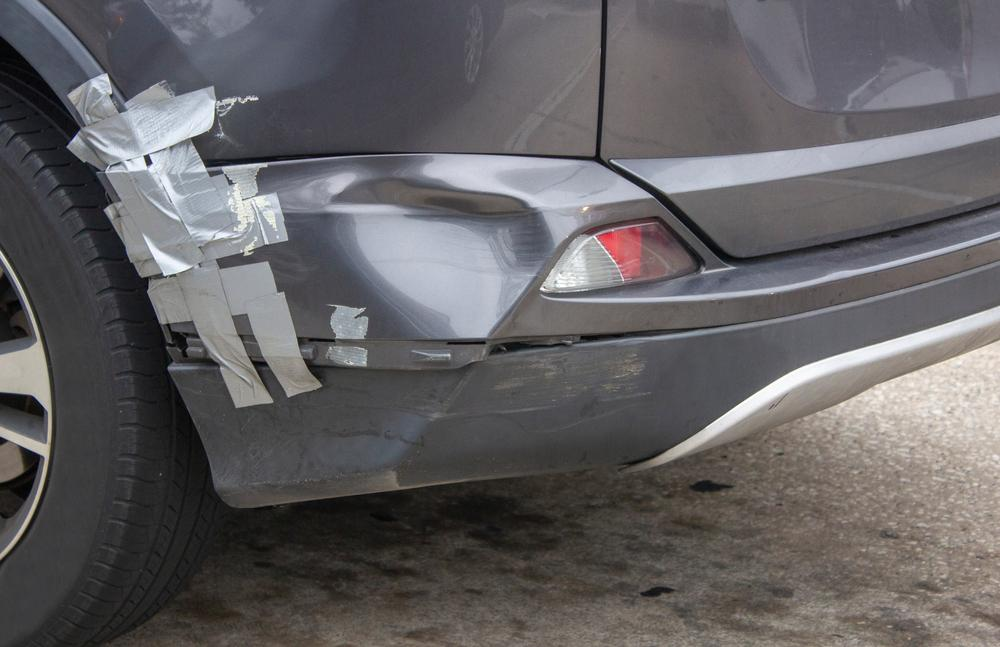dent: (328, 177, 551, 340)
scratch: (367, 347, 671, 432)
